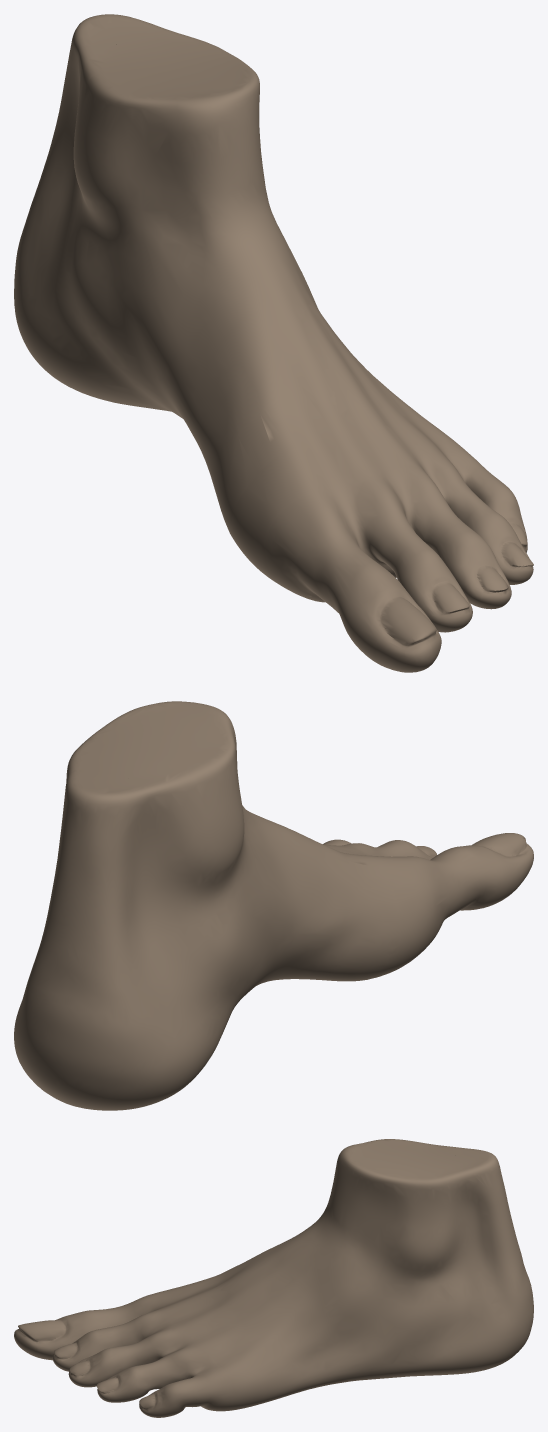
The model's file is foot.germanic.optimized.glb.
The picture shows the model from 3 angles, top to bottom: view 1: azimuth 30°, elevation 25°; view 2: azimuth 150°, elevation 25°; view 3: azimuth 270°, elevation 25°; orthographic projection. The views are drawn at different scales.
Visible parts, largest first — view 1: Foot_Germanic; view 2: Foot_Germanic; view 3: Foot_Germanic.
Part boxes in pixels (x1,y1,x2,y2): Foot_Germanic: (14,14,533,672); Foot_Germanic: (14,701,533,1110); Foot_Germanic: (14,1139,533,1417).
Bounding box in the file's own units: 2.63 × 3.65 × 7.63.
